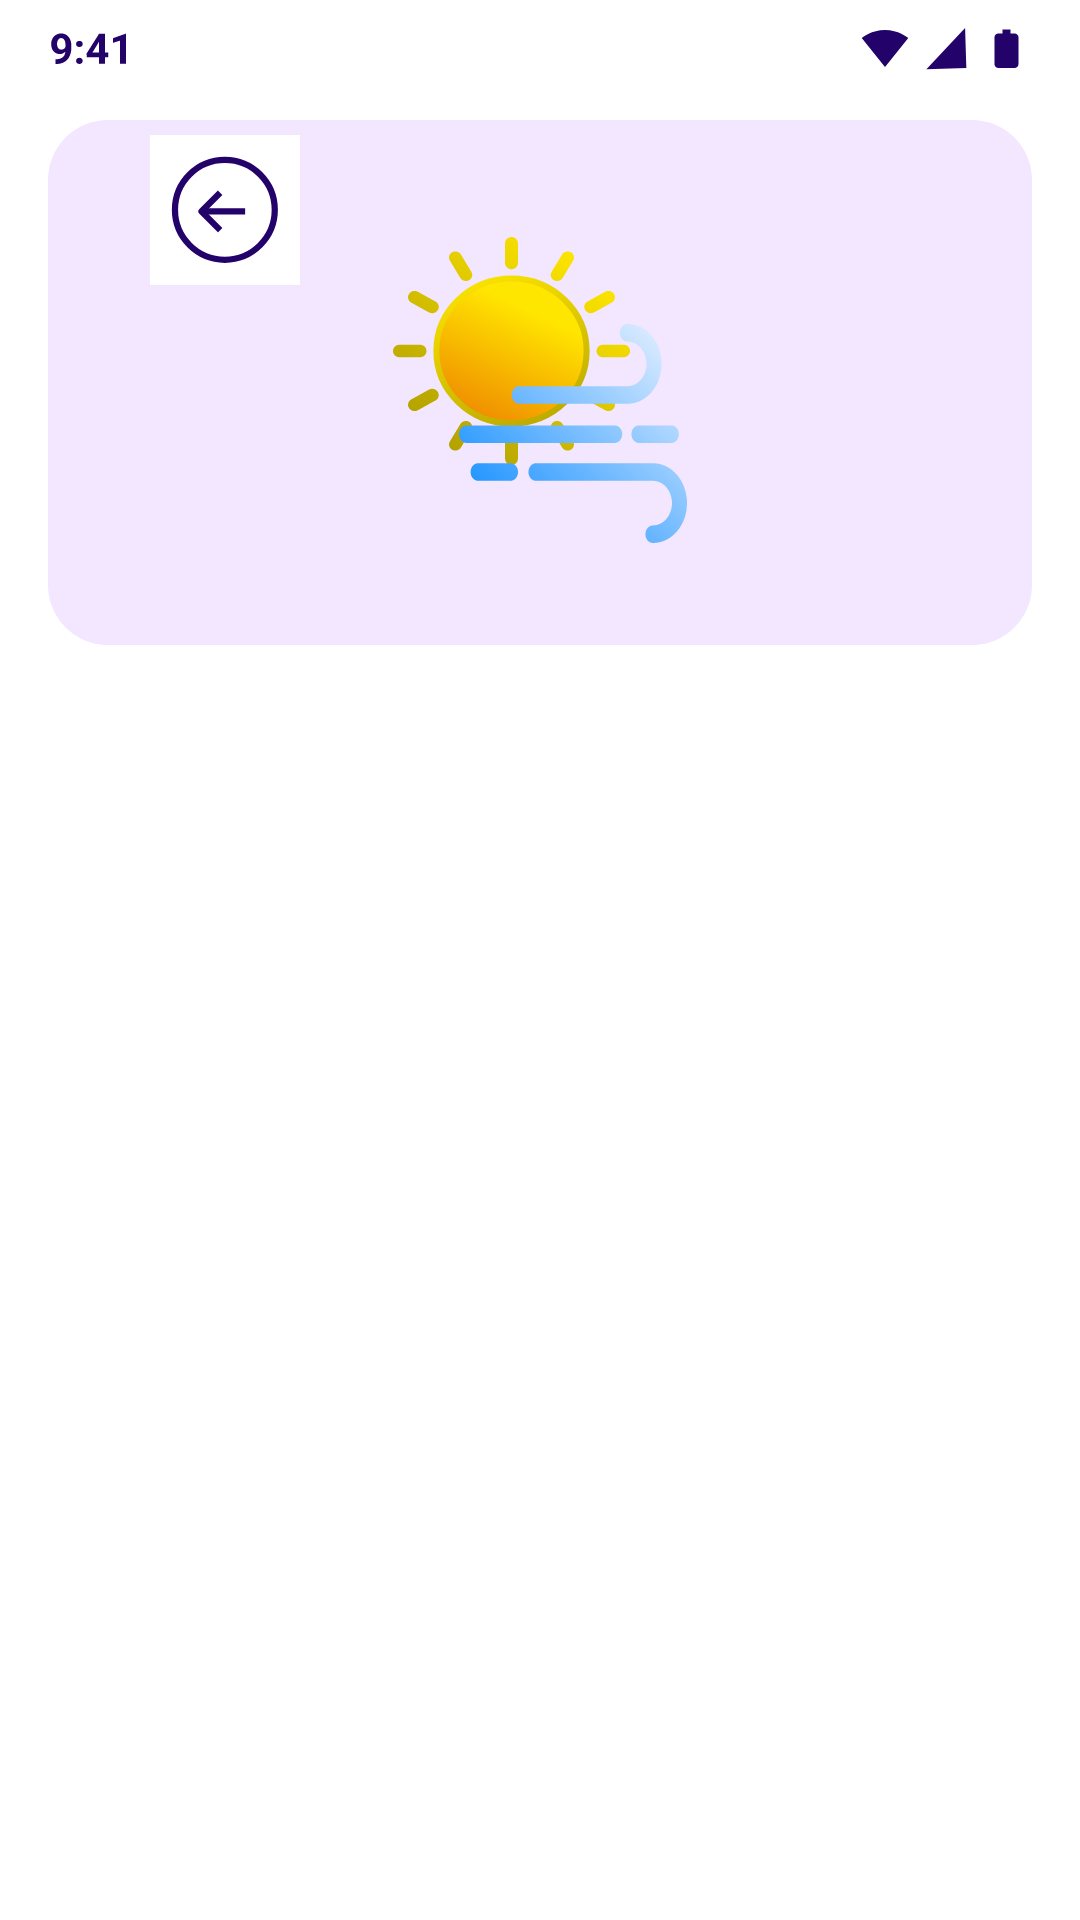

Icons on this 1080 × 1920 Android screen, each with the point to tap as (x=x, y=y):
arrow: (x=225, y=210)
